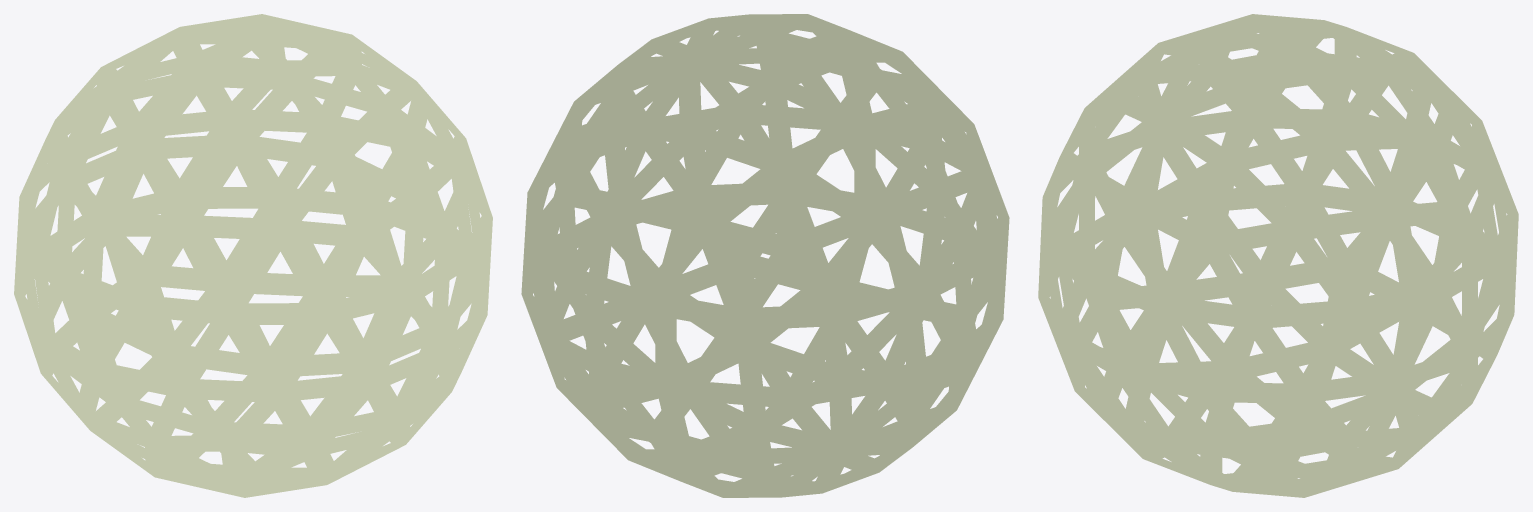
The model's file is ball2.dae.
3 renders of one model, left to right at view 1: azimuth 30°, elevation 25°; view 2: azimuth 150°, elevation 25°; view 3: azimuth 270°, elevation 25°, orthographic.
Parts seen in each view (by area): view 1: F3:GeoDome1-0; view 2: F3:GeoDome1-0; view 3: F3:GeoDome1-0.
Boxes of the visible parts, x1=… form: F3:GeoDome1-0: x1=14, y1=14, x2=492, y2=497; F3:GeoDome1-0: x1=521, y1=14, x2=1009, y2=497; F3:GeoDome1-0: x1=1038, y1=14, x2=1518, y2=497.
Size of the model in its own units: 566 by 578 by 567.
